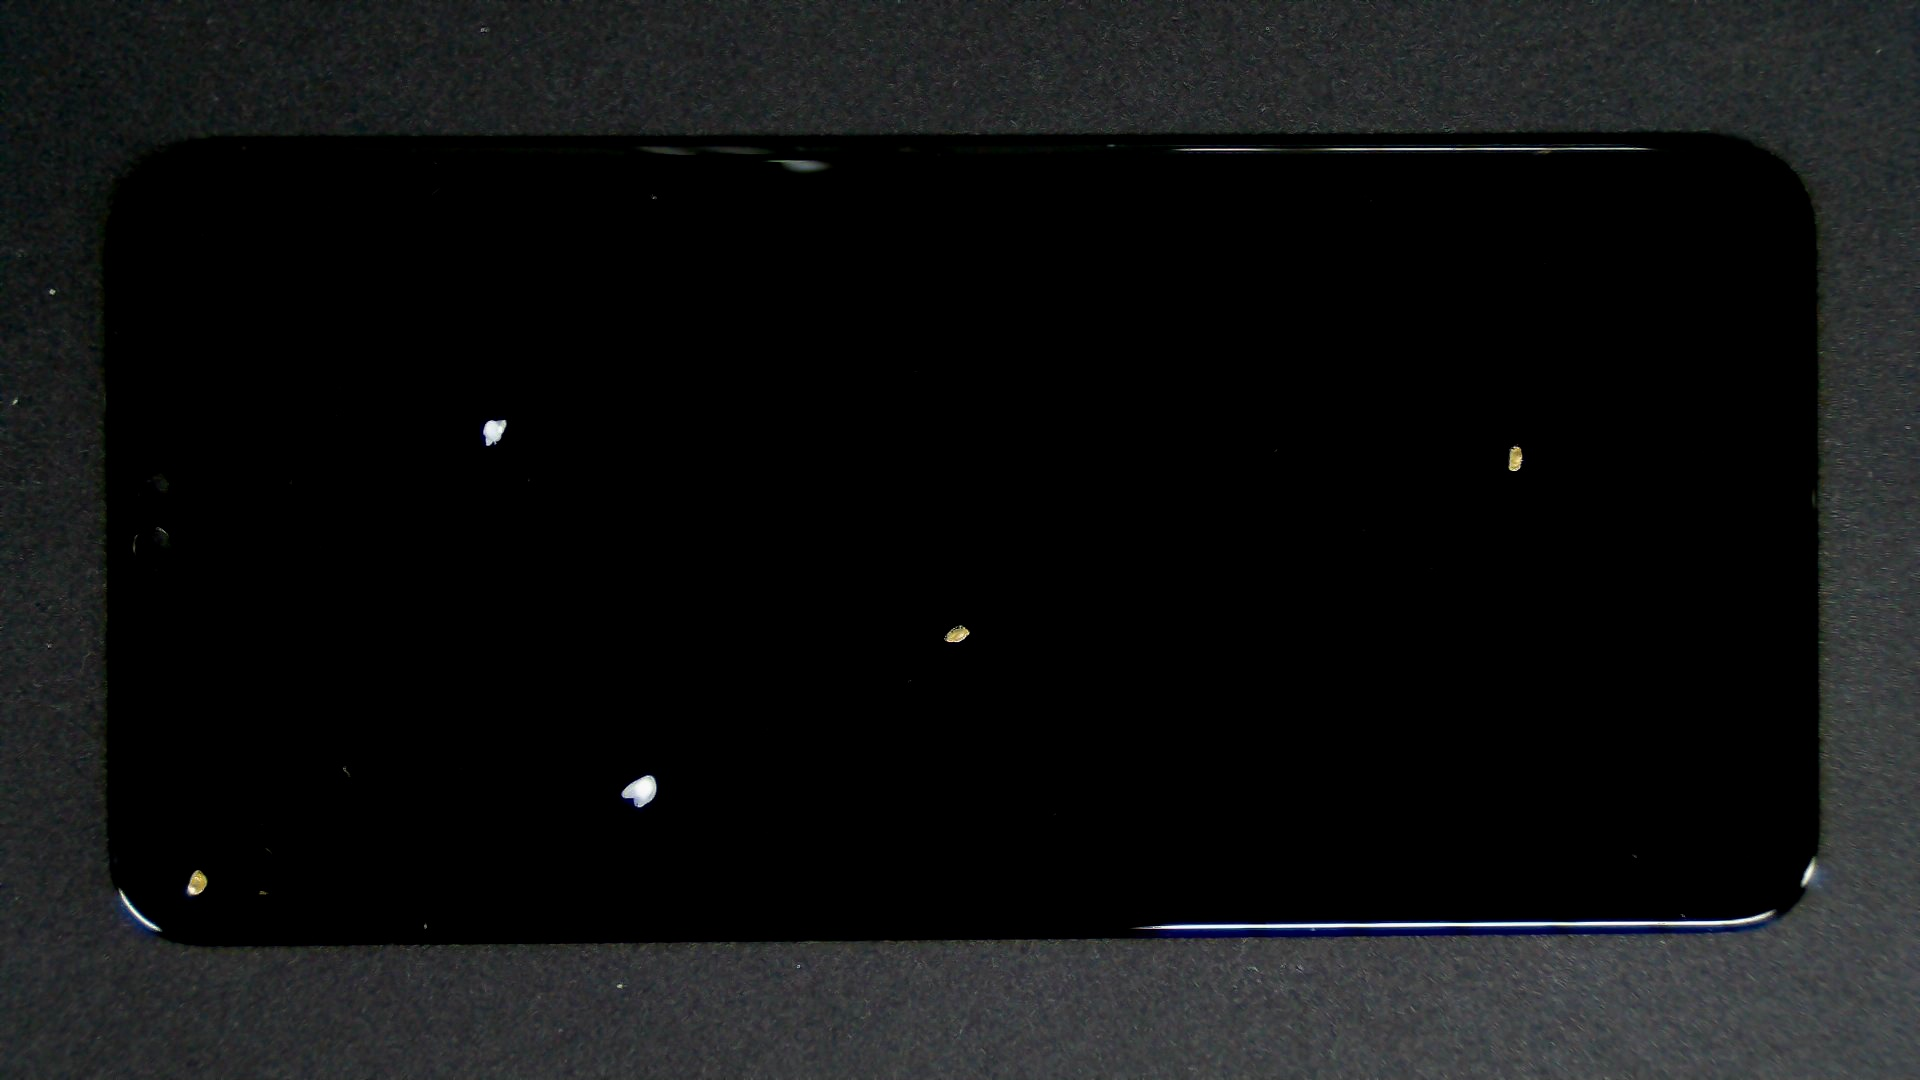oil: (483, 311, 1444, 936), (760, 222, 1920, 665), (323, 386, 967, 1080), (247, 208, 736, 628), (99, 434, 295, 1080)
